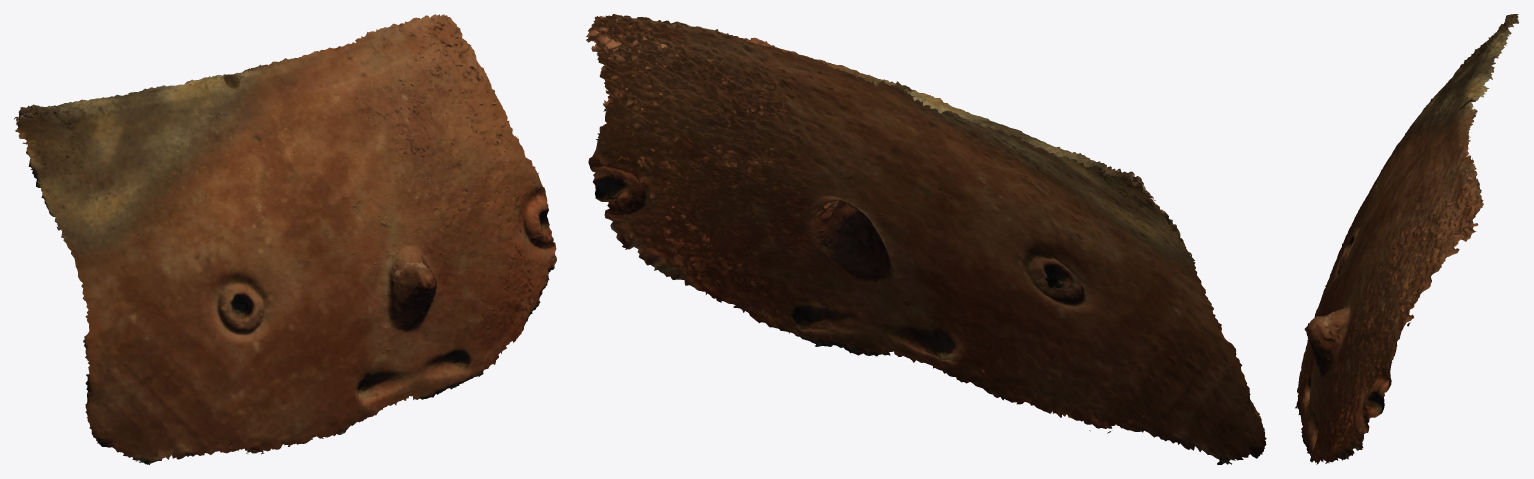
File: letrada_pleasantfellow.glb
3 renders of one model, left to right at view 1: azimuth 30°, elevation 25°; view 2: azimuth 150°, elevation 25°; view 3: azimuth 270°, elevation 25°, orthographic. The views are drawn at different scales.
Visible parts, largest first — view 1: Object_2; view 2: Object_2; view 3: Object_2.
Part boxes in pixels (left/top/right/bottom): Object_2: left=14, top=14, right=556, bottom=464; Object_2: left=586, top=14, right=1266, bottom=464; Object_2: left=1295, top=14, right=1518, bottom=464.
Size of the model in its own units: 7.1 by 4.44 by 2.92.
1 material, 1 textured.
